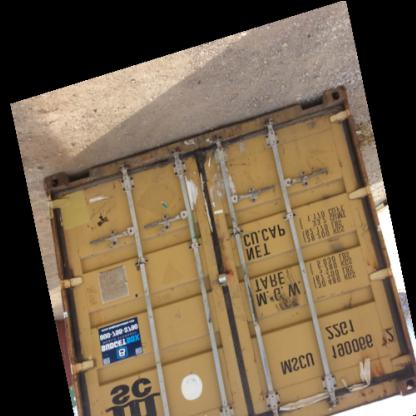Damage: (175, 138, 232, 226), (348, 344, 414, 406), (74, 176, 136, 239), (352, 202, 386, 278), (266, 266, 307, 322), (122, 278, 179, 308), (291, 152, 334, 190), (290, 108, 327, 127), (321, 236, 347, 263), (338, 298, 360, 324)
